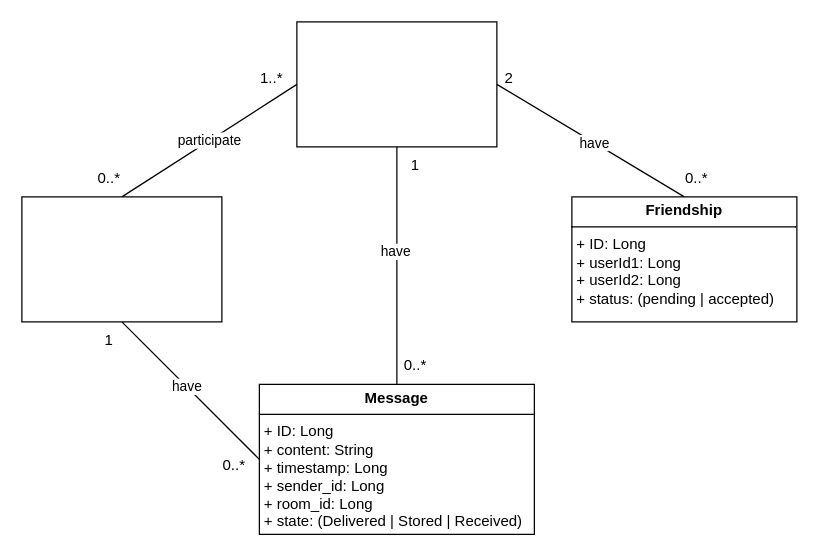
The diagram is 819 pixels wide and 556 high, and some of its shapes have lost their labels. Here are the shapes that lost their labels. From the top down, the box of each, then its label:
(296, 21, 497, 147): User + ID: Long + username: String + name: String + profilePicture: String
(21, 196, 222, 322): Room + ID: Long + name: String + picture: String + type: (direct | group)
